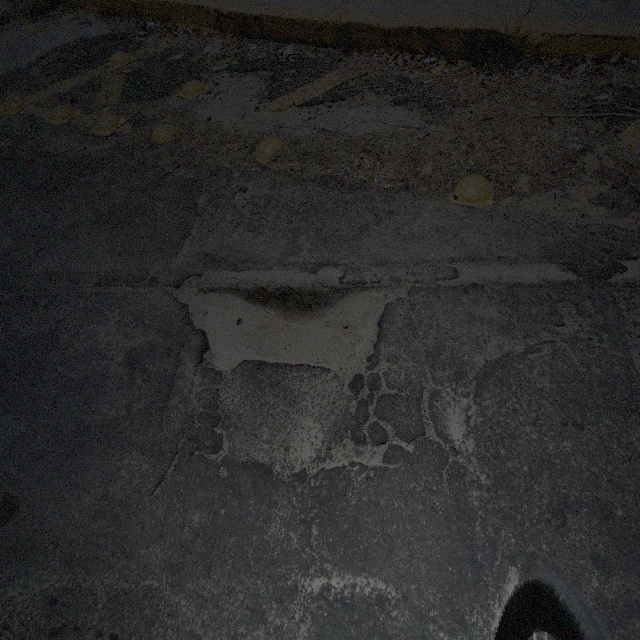pothole: (172, 268, 411, 401), (214, 363, 354, 481), (452, 252, 580, 294)
